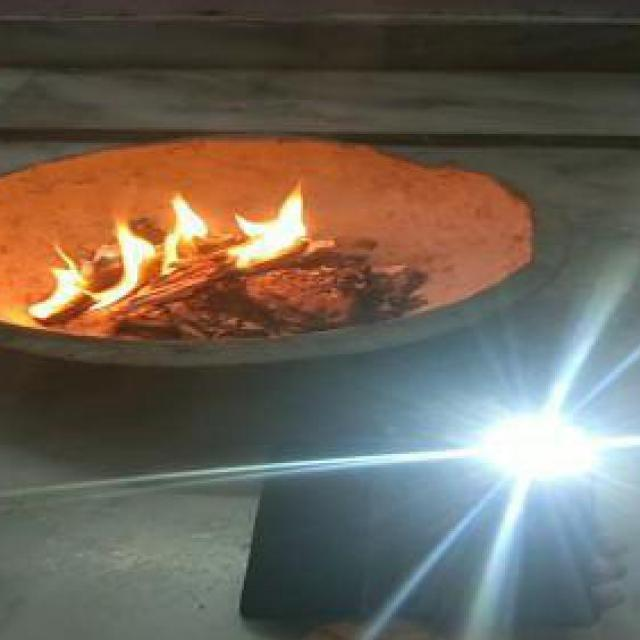fire: (17, 174, 321, 324)
